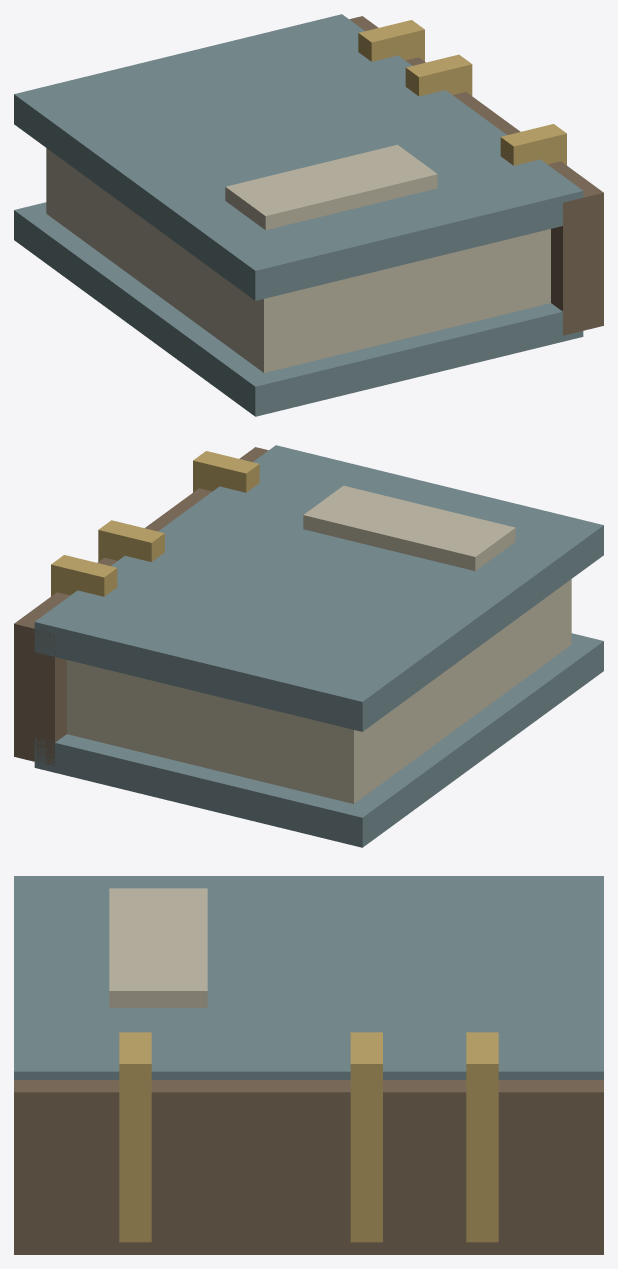
Rendered from spread-portable-codex11.fbx.
3 views of the same model, one above another, from view 1: azimuth 30°, elevation 25°; view 2: azimuth 150°, elevation 25°; view 3: azimuth 270°, elevation 25° (orthographic). The views are drawn at different scales.
Parts seen in each view (by area): view 1: spread-portable-codex11__Geometry; view 2: spread-portable-codex11__Geometry; view 3: spread-portable-codex11__Geometry.
Boxes of the visible parts, x1=… form: spread-portable-codex11__Geometry: x1=14, y1=14, x2=603, y2=416; spread-portable-codex11__Geometry: x1=14, y1=445, x2=603, y2=847; spread-portable-codex11__Geometry: x1=14, y1=876, x2=603, y2=1254.
Bounding box in the file's own units: 0.4325 × 0.1925 × 0.51.
